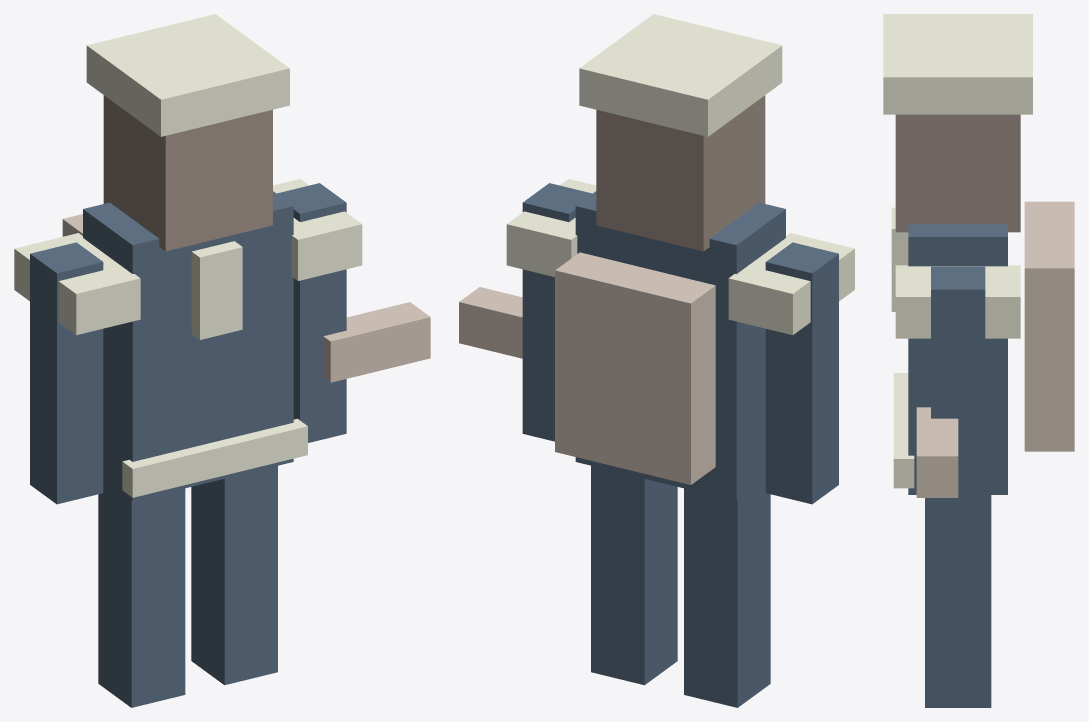
The model's file is 16_sarai_voidrill_marshal_under_cargo.glb.
The picture shows the model from 3 angles, left to right: view 1: azimuth 30°, elevation 25°; view 2: azimuth 150°, elevation 25°; view 3: azimuth 270°, elevation 25°; orthographic projection.
Visible parts, largest first — view 1: Sarai Voidrill, Marshal under Cargo; view 2: Sarai Voidrill, Marshal under Cargo; view 3: Sarai Voidrill, Marshal under Cargo.
Boxes of the visible parts, x1,y1,x2,y2 form: Sarai Voidrill, Marshal under Cargo: (14, 14, 430, 707); Sarai Voidrill, Marshal under Cargo: (459, 14, 854, 707); Sarai Voidrill, Marshal under Cargo: (883, 14, 1074, 707).
Bounding box in the file's own units: 0.9915 × 1.61 × 0.445.
